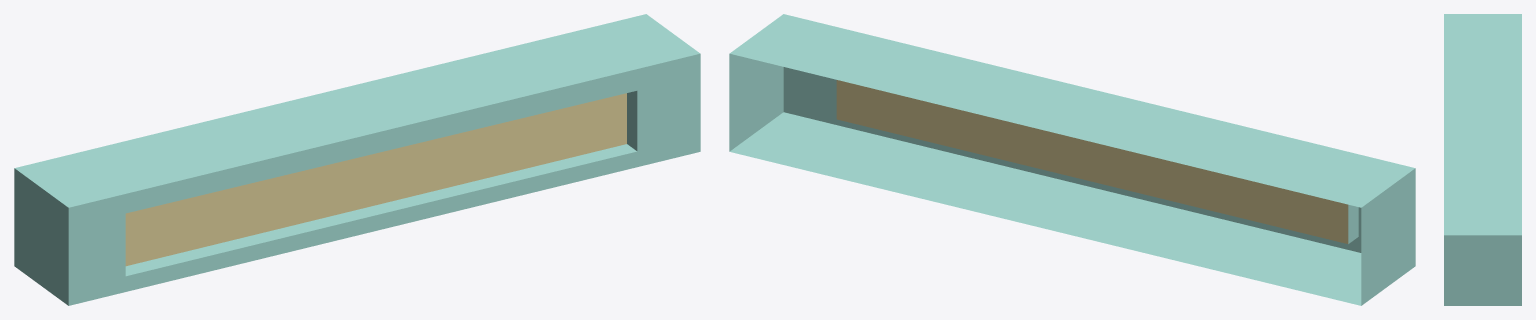
The model's file is shop sign.fbx.
3 views of the same model, side by side, from view 1: azimuth 30°, elevation 25°; view 2: azimuth 150°, elevation 25°; view 3: azimuth 270°, elevation 25° (orthographic). The views are drawn at different scales.
Visible parts, largest first — view 1: pCube9; view 2: pCube9; view 3: pCube9.
Boxes of the visible parts, box(x1,y1,x2,y2) form: pCube9: box(14, 14, 700, 305); pCube9: box(729, 14, 1415, 305); pCube9: box(1444, 14, 1521, 305).
Size of the model in its own units: 6.74 by 1 by 1.
